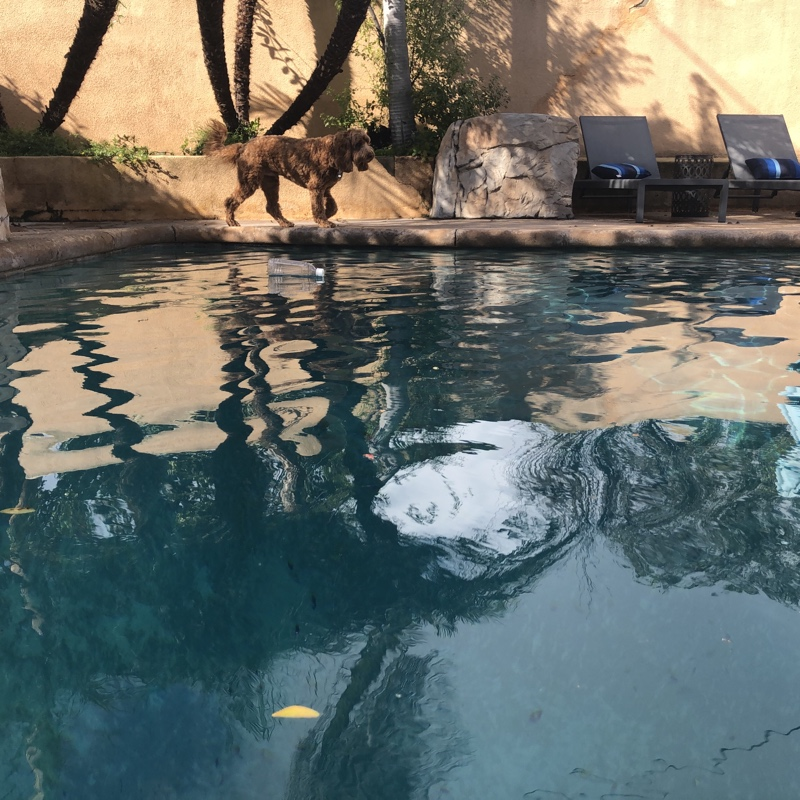Plastic Bottle: (266, 254, 327, 281)
